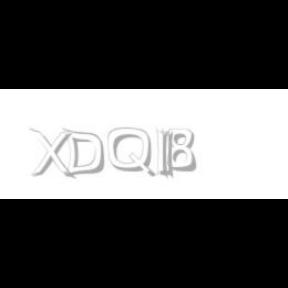8: (168, 128, 196, 172)
D: (61, 128, 104, 178)
Q: (108, 128, 154, 178)
X: (29, 128, 73, 180)
l: (156, 128, 172, 180), (161, 128, 177, 180)
